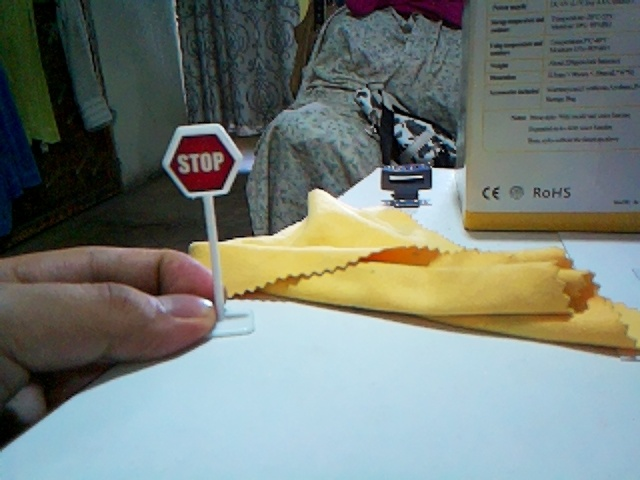stop_sign: (164, 124, 241, 196)
